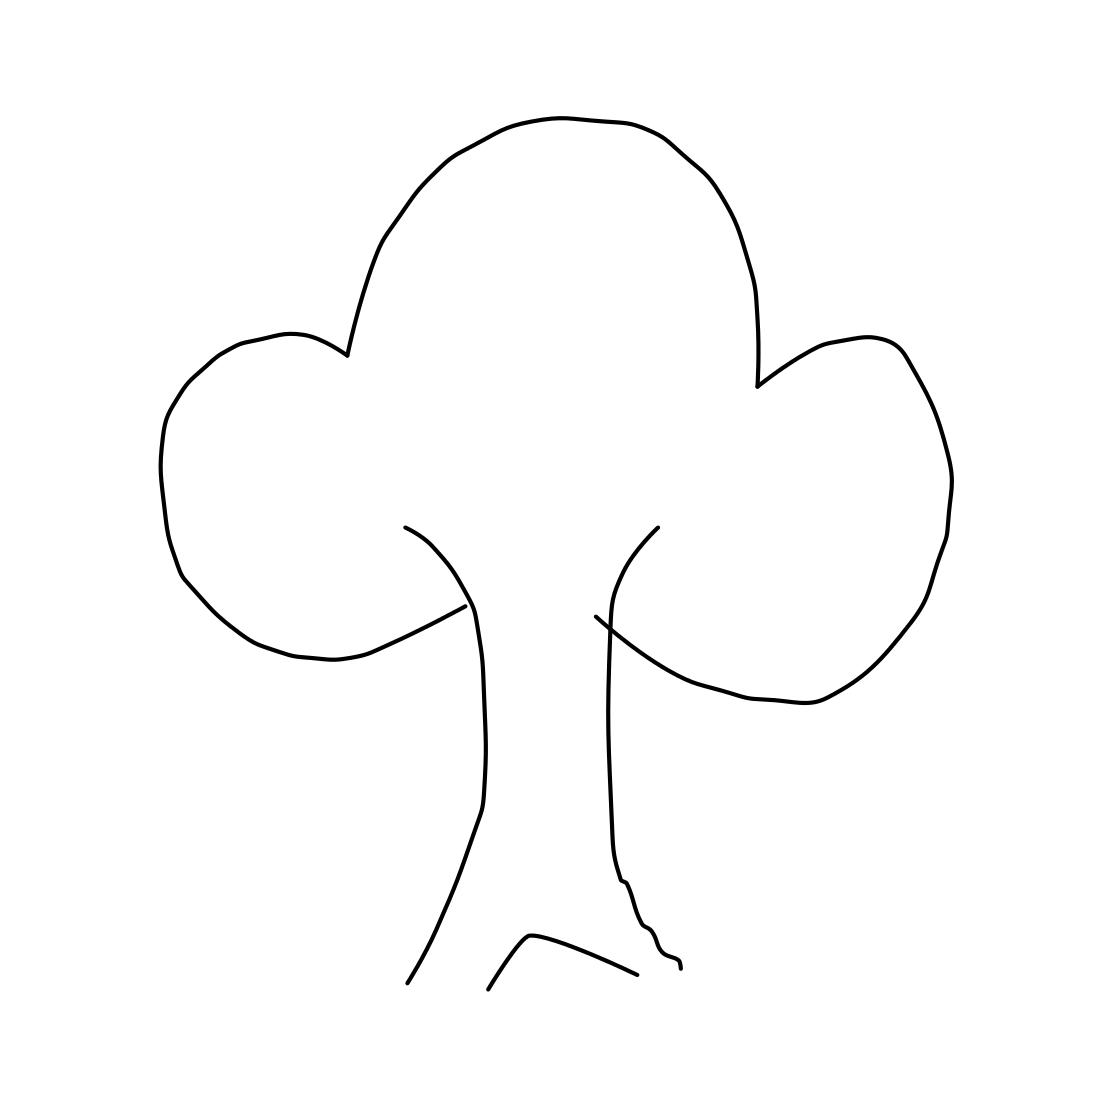Tree: (147, 67, 977, 990)
